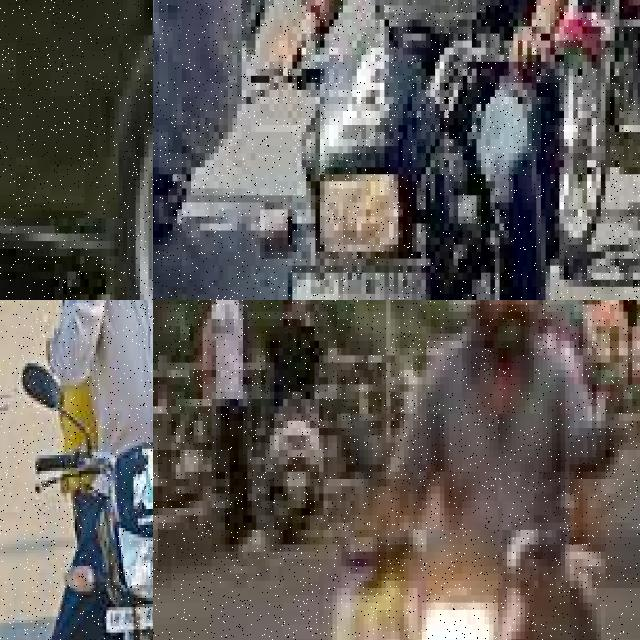bike: (251, 12, 532, 300), (350, 471, 582, 640), (22, 407, 153, 640), (559, 0, 640, 272), (261, 377, 323, 545)
car: (0, 0, 153, 300)
